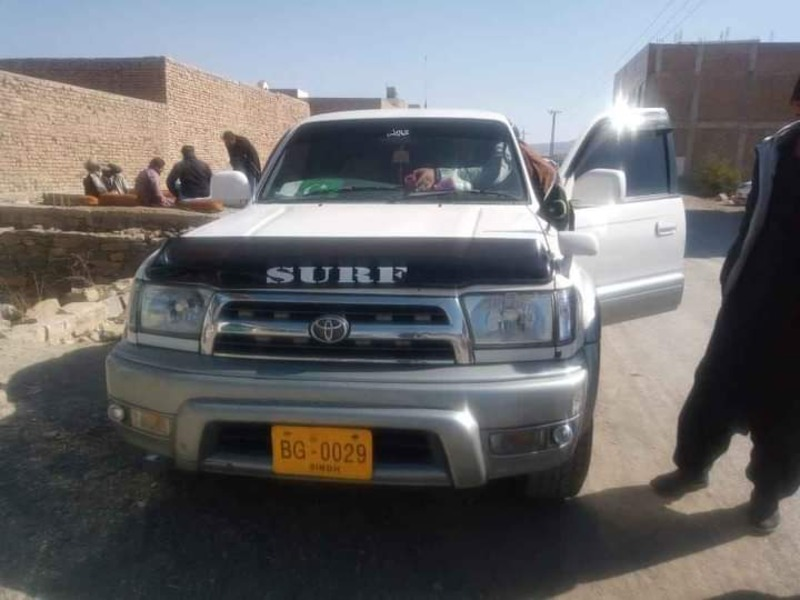License Plate: (267, 421, 377, 487)
